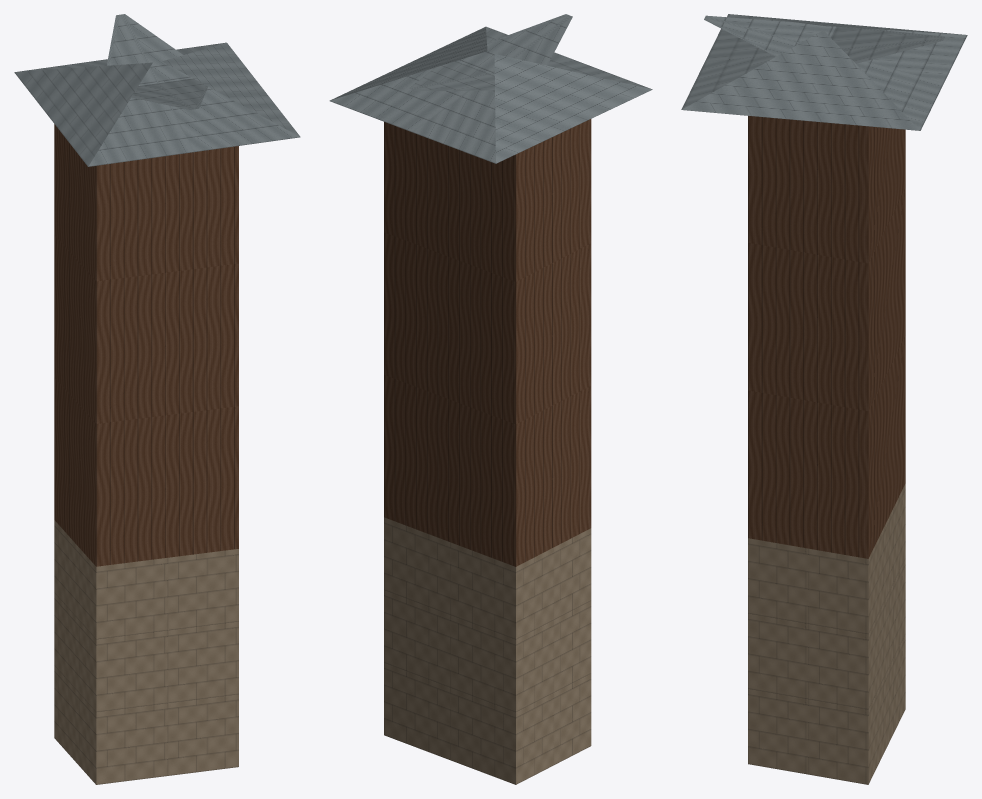
The model's file is bld_c-3_-1_547.gltf.
3 renders of one model, left to right at view 1: azimuth 30°, elevation 25°; view 2: azimuth 150°, elevation 25°; view 3: azimuth 270°, elevation 25°, orthographic. The views are drawn at different scales.
Parts seen in each view (by area): view 1: bld_c-3_-1_547; view 2: bld_c-3_-1_547; view 3: bld_c-3_-1_547.
Boxes of the visible parts, left/top/right/bottom form: bld_c-3_-1_547: left=14, top=14, right=300, bottom=784; bld_c-3_-1_547: left=329, top=14, right=652, bottom=784; bld_c-3_-1_547: left=681, top=14, right=967, bottom=784.
Size of the model in its own units: 5.66 by 16.1 by 5.86.
3 materials, 3 textured.
